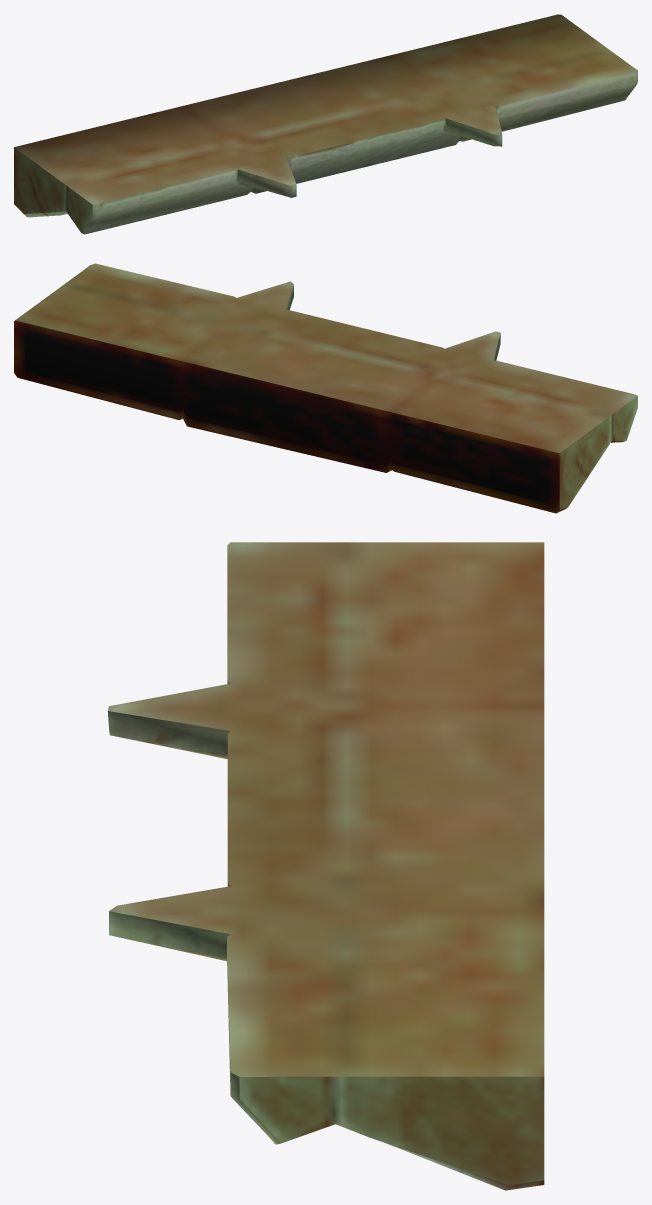
Rendered from Ruins_Trim_Base_8M_B.fbx.
3 renders of one model, top to bottom at view 1: azimuth 30°, elevation 25°; view 2: azimuth 150°, elevation 25°; view 3: azimuth 270°, elevation 25°, orthographic. The views are drawn at different scales.
Visible parts, largest first — view 1: Ruins_Trim_Base_8M_B; view 2: Ruins_Trim_Base_8M_B; view 3: Ruins_Trim_Base_8M_B.
Part boxes in pixels (x1,y1,x2,y2): Ruins_Trim_Base_8M_B: (14, 14, 637, 234); Ruins_Trim_Base_8M_B: (14, 263, 637, 513); Ruins_Trim_Base_8M_B: (107, 542, 544, 1190).
Bounding box in the file's own units: 800 × 93.49 × 277.
